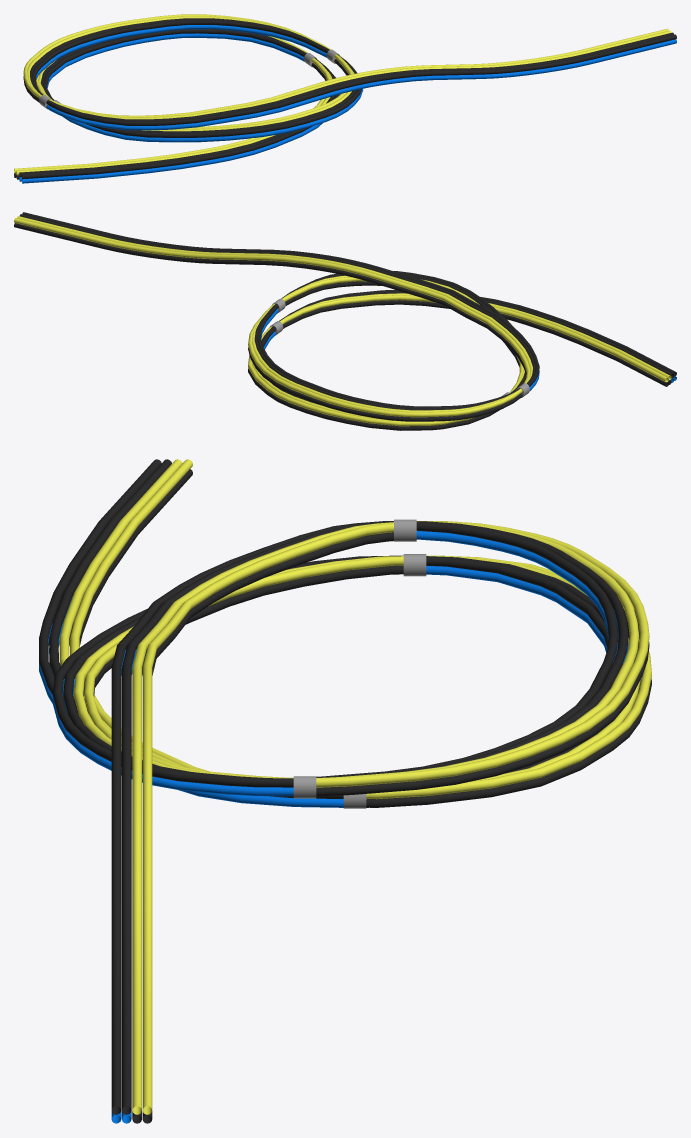
File: waree.fbx
The picture shows the model from 3 angles, top to bottom: view 1: azimuth 30°, elevation 25°; view 2: azimuth 150°, elevation 25°; view 3: azimuth 270°, elevation 25°; orthographic projection. The views are drawn at different scales.
Parts seen in each view (by area): view 1: Color wires; view 2: Color wires; view 3: Color wires.
Part boxes in pixels (box(x1,y1,x2,y2)): Color wires: box(14, 14, 676, 183); Color wires: box(14, 212, 676, 430); Color wires: box(39, 459, 651, 1123).
Size of the model in its own units: 365 by 21.77 by 150.
